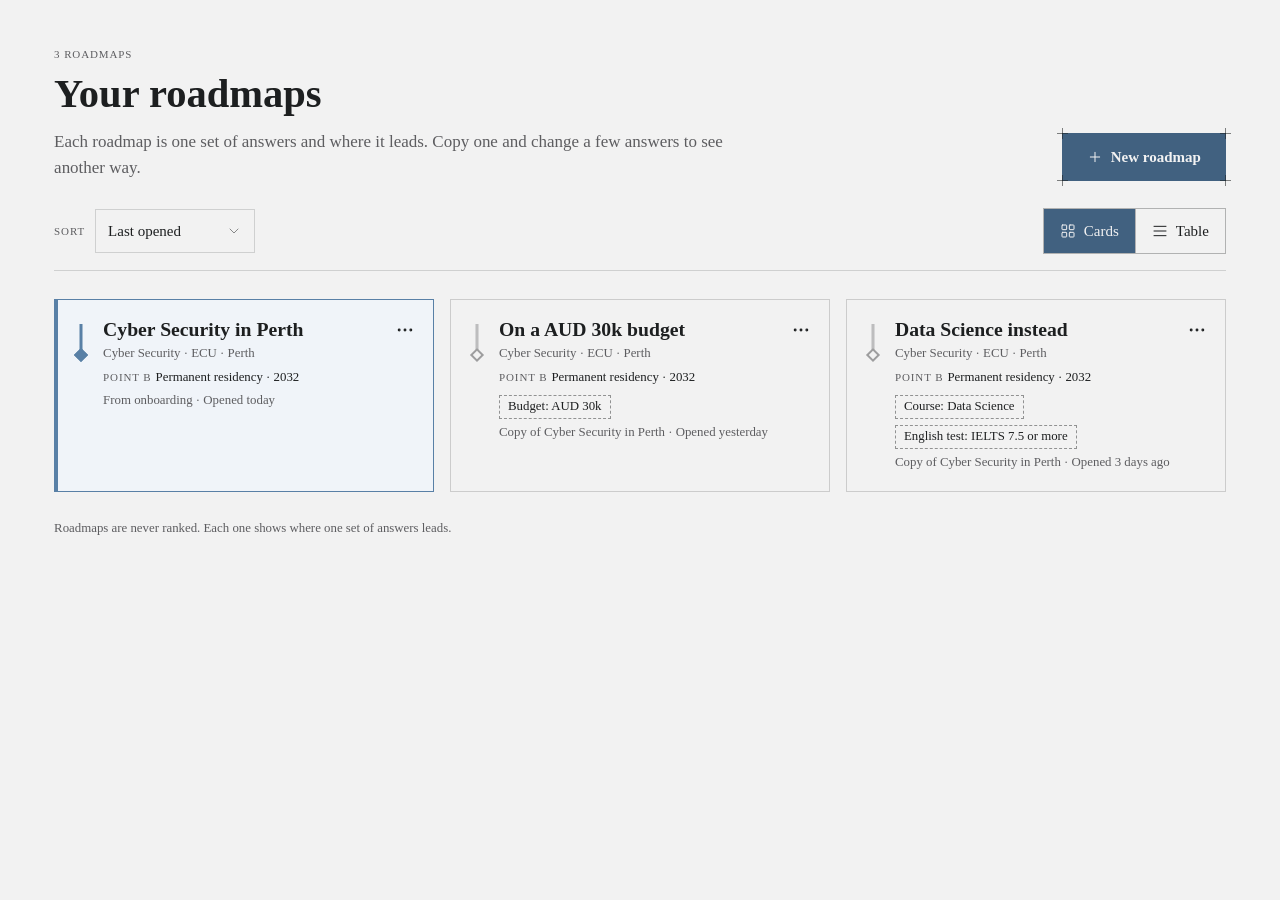
it: Archive › Undo on its toast puts it back in its place
Click the button named "More for On a AUD 30k budget": x=801, y=330 [779,308,823,352]
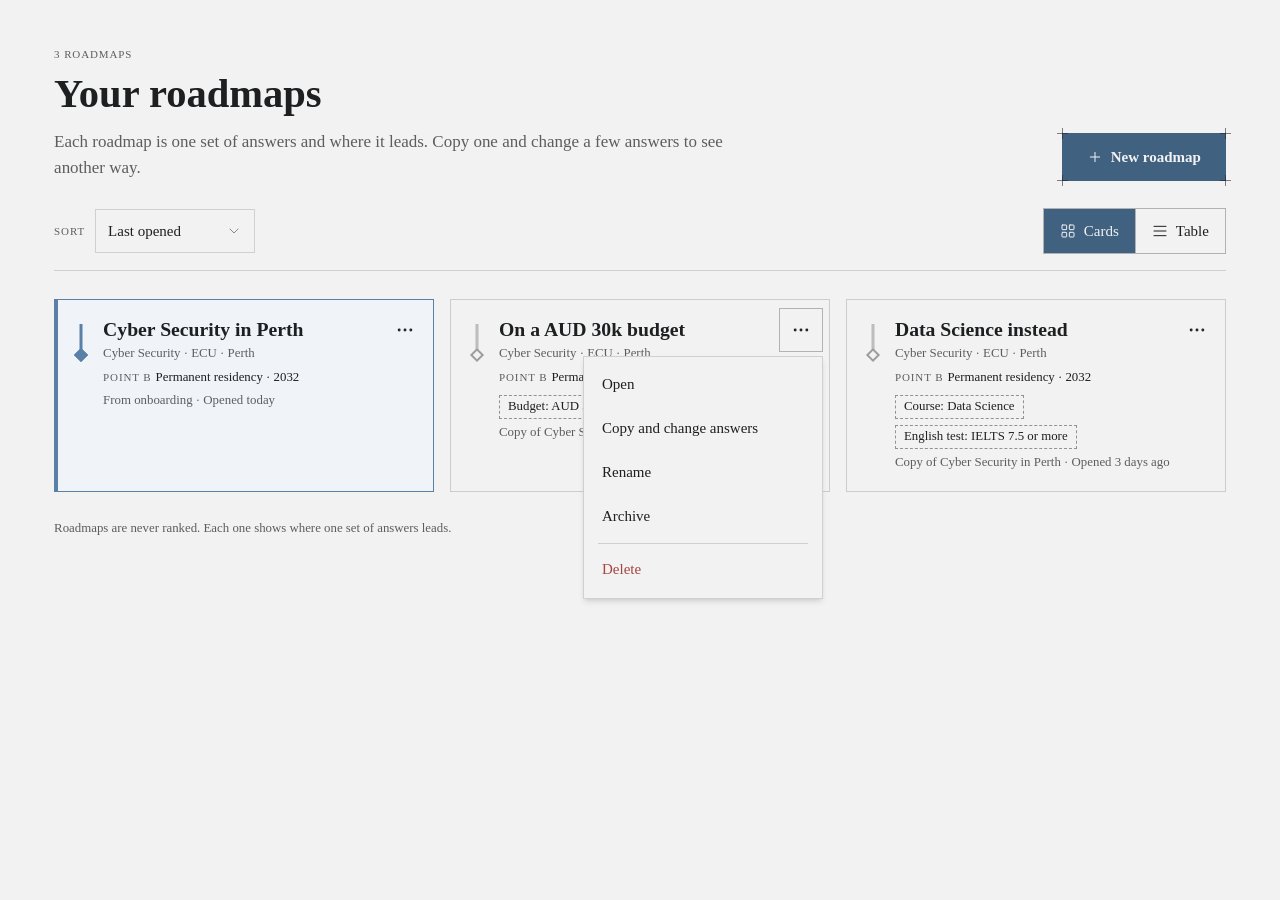
Click the menu item "Archive": x=703, y=516 [590,494,816,538]
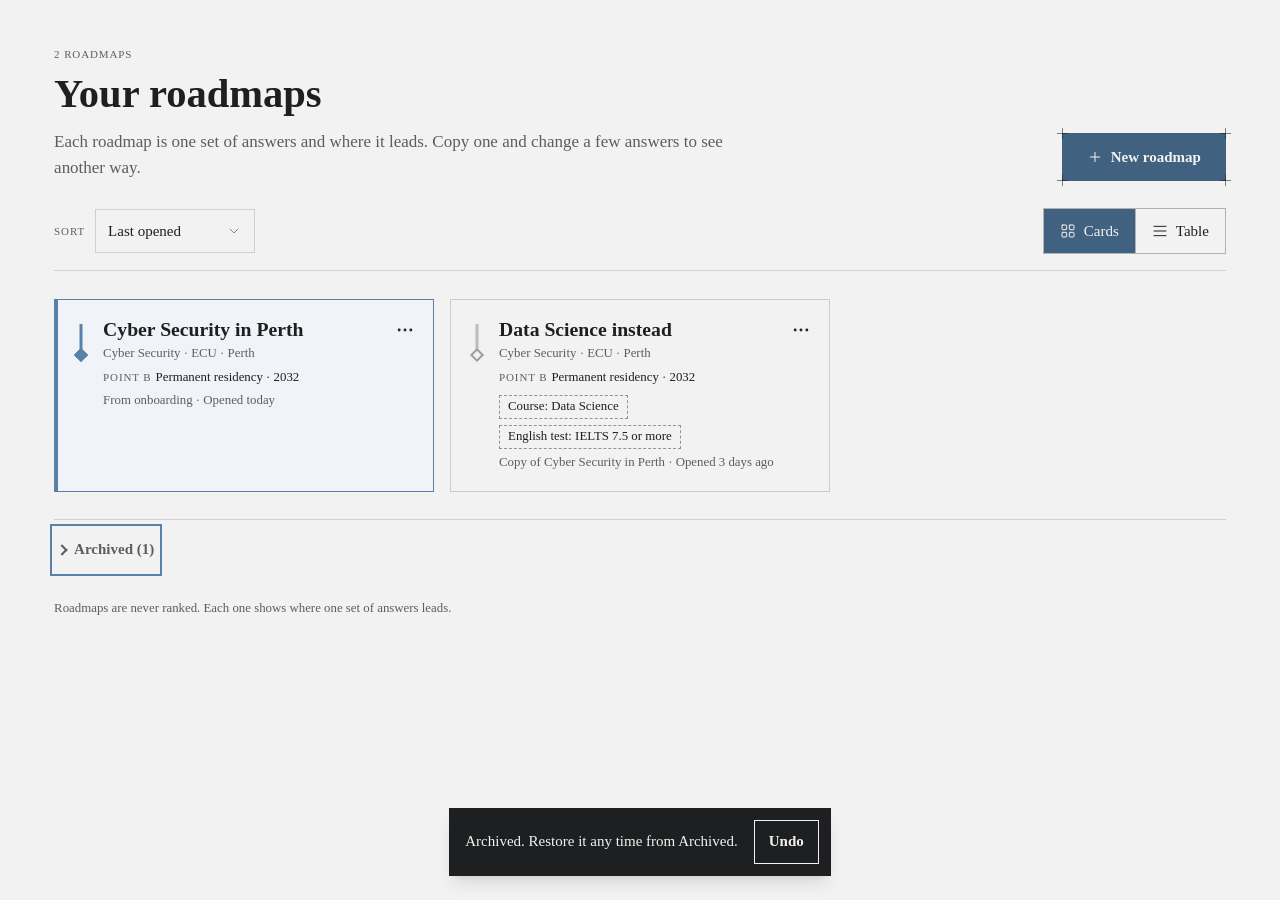
Click the button "Undo": x=786, y=842 [754,820,819,864]
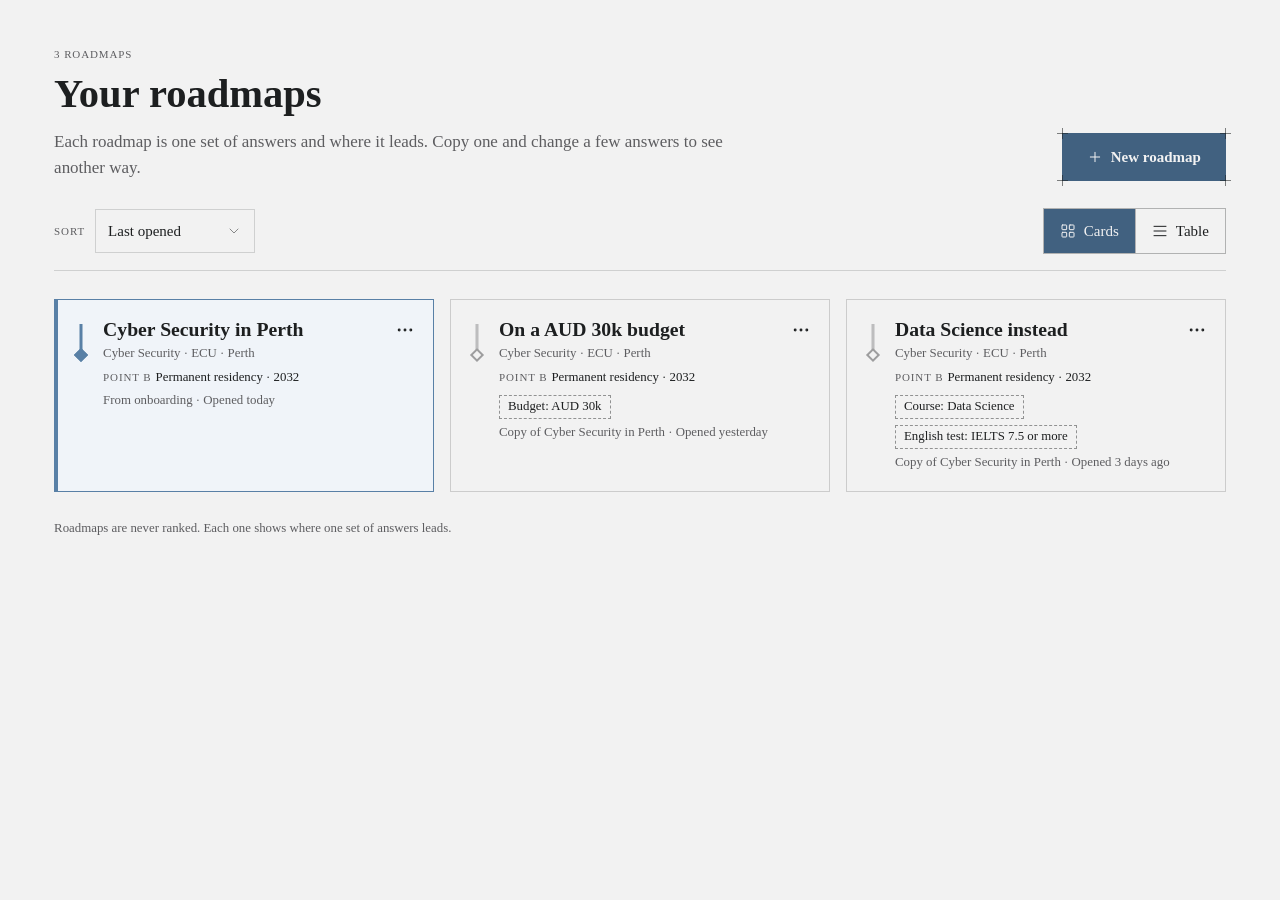
Expected: the text "Archived. Restore it any time from Archived." is gone
Expected: the button "Archived" is gone
